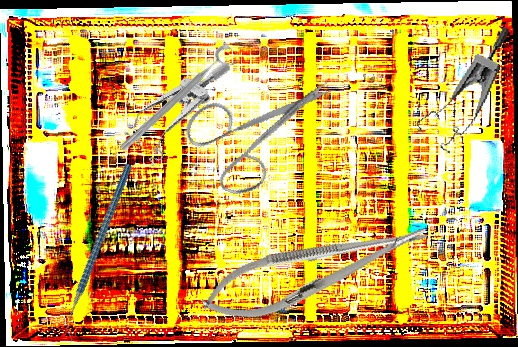Chopper: (14, 162, 185, 344)
Fixation Ring: (116, 41, 242, 162)
Iris Scissors: (169, 39, 338, 215)
Needle Holder: (194, 206, 436, 334)
Speculum: (115, 35, 234, 175), (410, 10, 512, 162)
